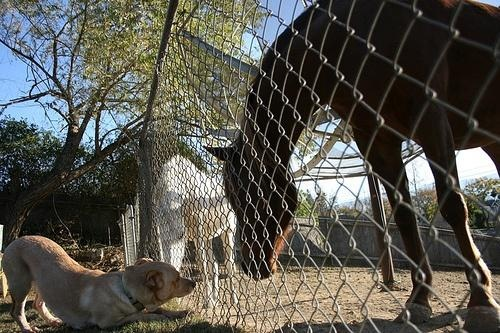dog: (1, 235, 197, 330)
horse: (203, 3, 500, 333), (159, 156, 241, 305)
